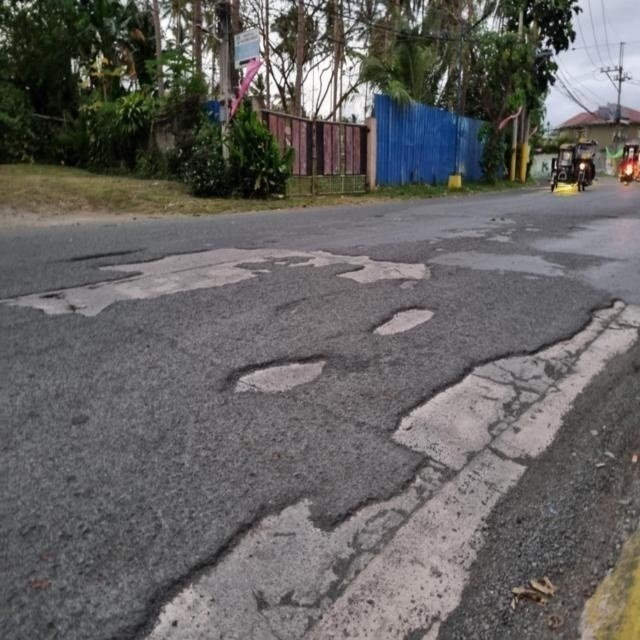pothole: (20, 238, 432, 316), (199, 343, 348, 420), (362, 294, 442, 354)
